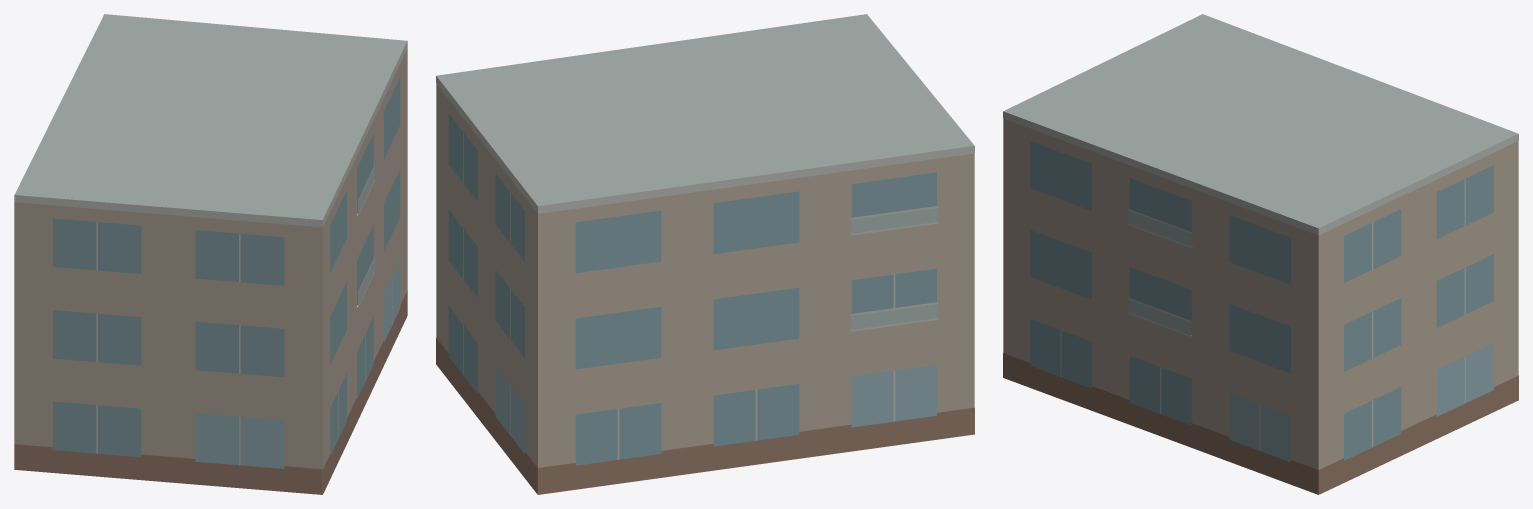
The model's file is survey-upis-32988632.glb.
3 renders of one model, left to right at view 1: azimuth 30°, elevation 25°; view 2: azimuth 150°, elevation 25°; view 3: azimuth 270°, elevation 25°, orthographic. The views are drawn at different scales.
Parts seen in each view (by area): view 1: survey-upis-32988632.tmp; view 2: survey-upis-32988632.tmp; view 3: survey-upis-32988632.tmp.
Boxes of the visible parts, x1,y1,x2,y2 form: survey-upis-32988632.tmp: (14,14,407,494); survey-upis-32988632.tmp: (436,14,974,494); survey-upis-32988632.tmp: (1003,14,1518,494).
Size of the model in its own units: 15.79 by 9.15 by 16.05.
